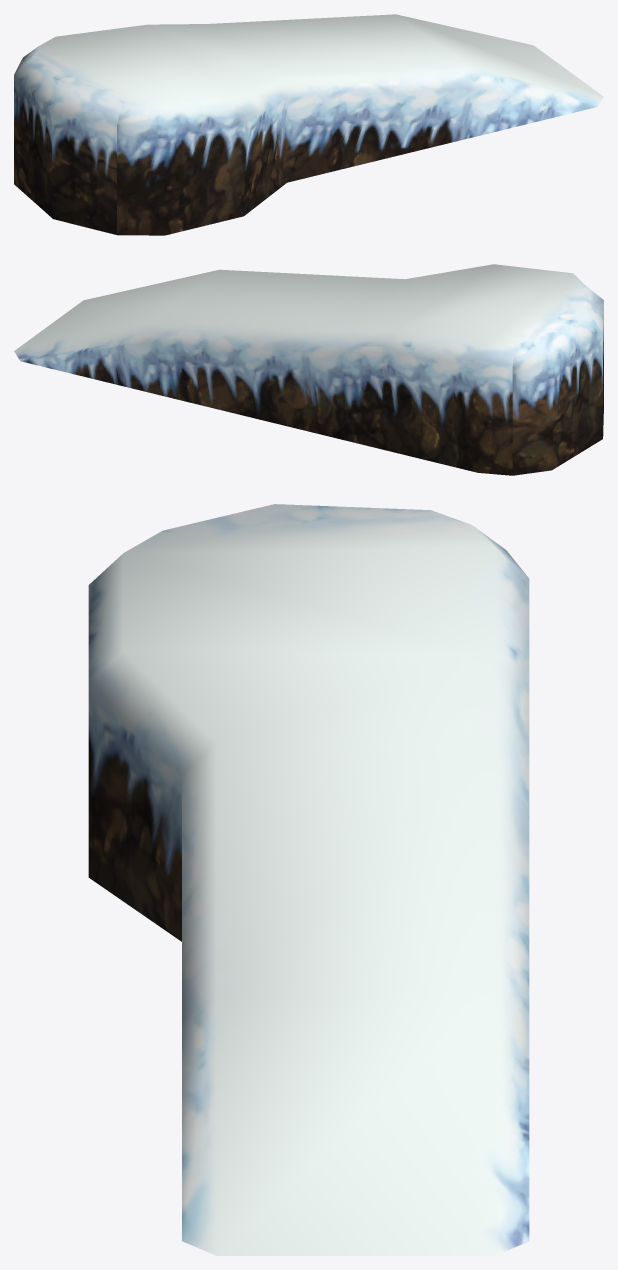
File: mc_env_snow mountain_mountain_04_v02.FBX
The picture shows the model from 3 angles, top to bottom: view 1: azimuth 30°, elevation 25°; view 2: azimuth 150°, elevation 25°; view 3: azimuth 270°, elevation 25°; orthographic projection. The views are drawn at different scales.
Parts seen in each view (by area): view 1: Box006; view 2: Box006; view 3: Box006.
Boxes of the visible parts, x1,y1,x2,y2 form: Box006: (14, 14, 603, 235); Box006: (14, 264, 603, 475); Box006: (88, 504, 529, 1255).
Size of the model in its own units: 975 by 217 by 350.
